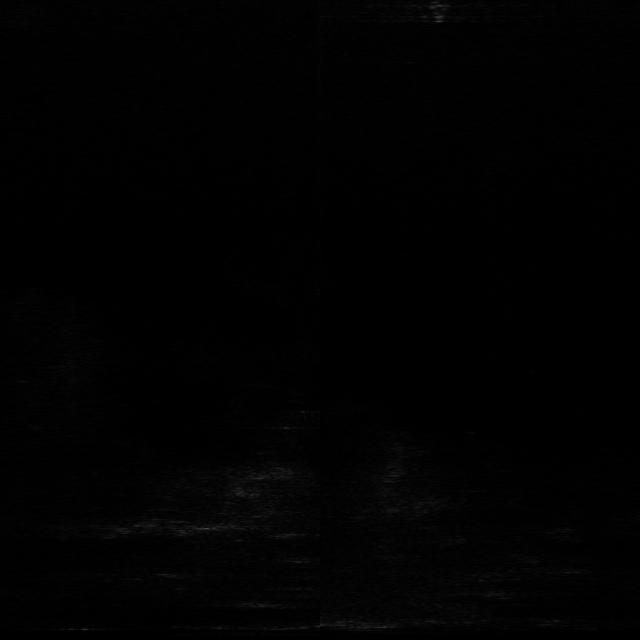rov: (419, 0, 452, 24)
